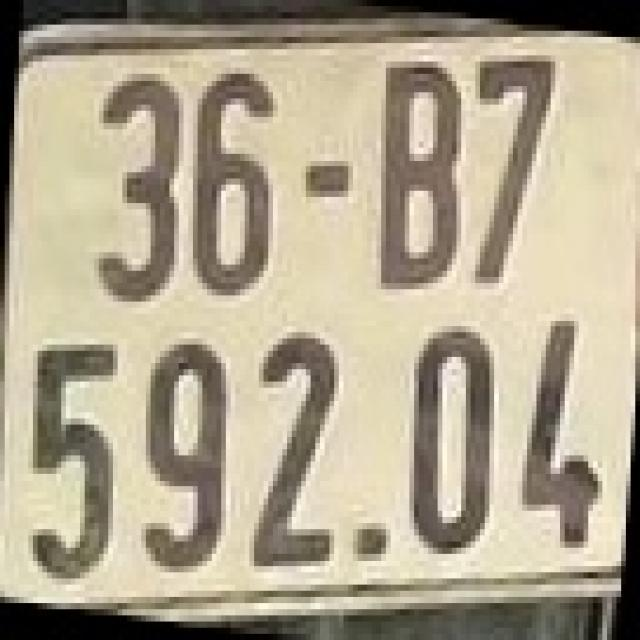0: (401, 314, 504, 560)
2: (244, 320, 344, 572)
3: (94, 68, 184, 302)
4: (518, 308, 608, 554)
5: (23, 332, 122, 578)
6: (188, 62, 278, 296)
7: (470, 43, 560, 289)
9: (137, 332, 230, 572)
B: (368, 49, 470, 296)
